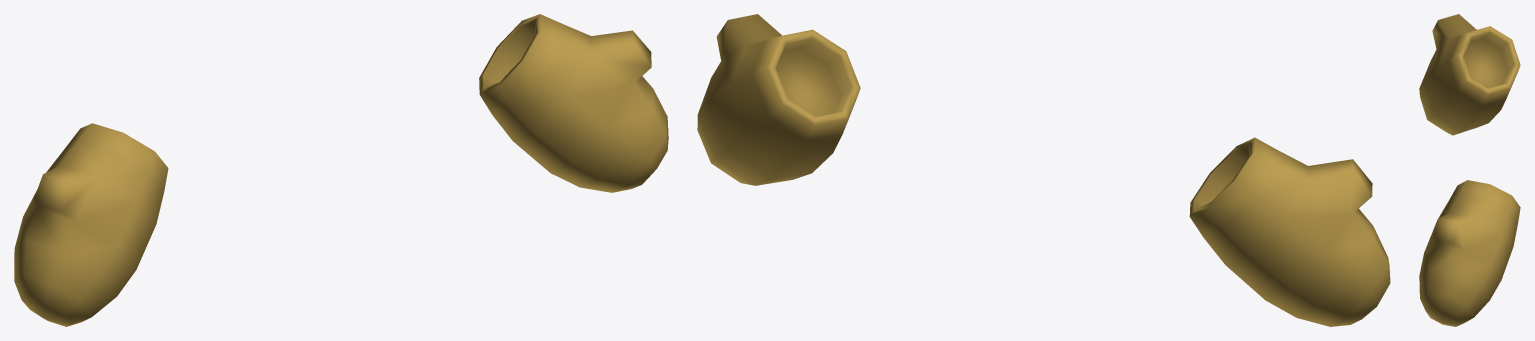
File: Gloves.fbx
The picture shows the model from 3 angles, left to right: view 1: azimuth 30°, elevation 25°; view 2: azimuth 150°, elevation 25°; view 3: azimuth 270°, elevation 25°; orthographic projection. The views are drawn at different scales.
Parts seen in each view (by area): view 1: Gloves; view 2: Gloves; view 3: Gloves.
Boxes of the visible parts, <box> form: Gloves: <box>14,14,668,326</box>; Gloves: <box>697,14,1390,326</box>; Gloves: <box>1419,14,1520,326</box>.
Bounding box in the file's own units: 0.1411 × 0.0266 × 0.0349.
